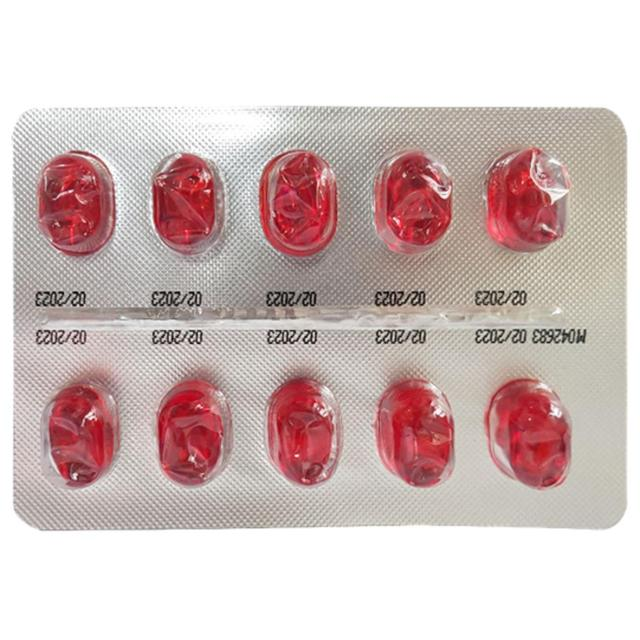blister: (8, 102, 631, 536)
